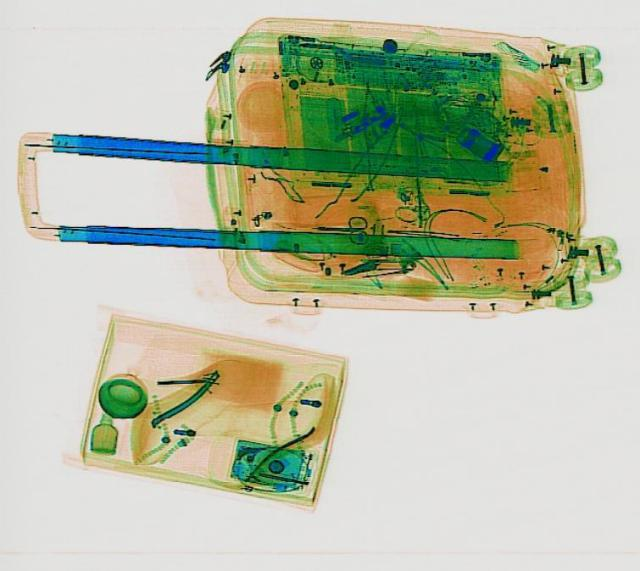Scissors: (310, 212, 366, 244)
